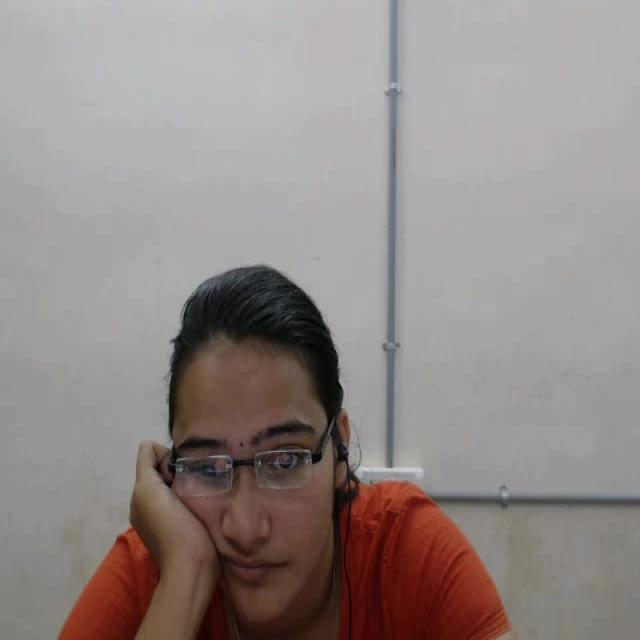Bored: (115, 241, 356, 636)
